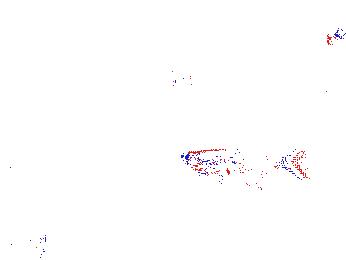red belly glassfish: (170, 68, 197, 92), (323, 28, 346, 47)
redtail glassfish: (179, 142, 306, 182), (3, 229, 50, 260)
